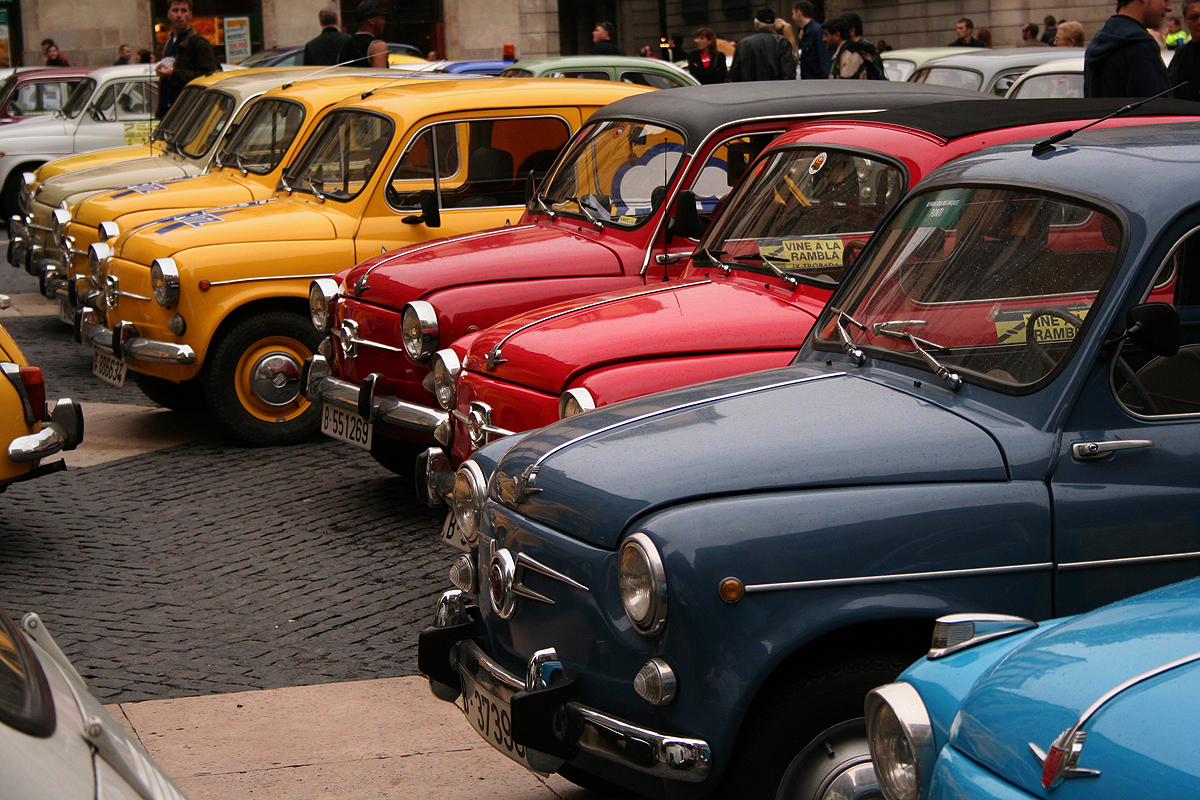Carro: (431, 123, 1200, 800), (393, 116, 1200, 570), (302, 80, 1199, 470), (106, 78, 710, 427), (60, 69, 571, 374)
